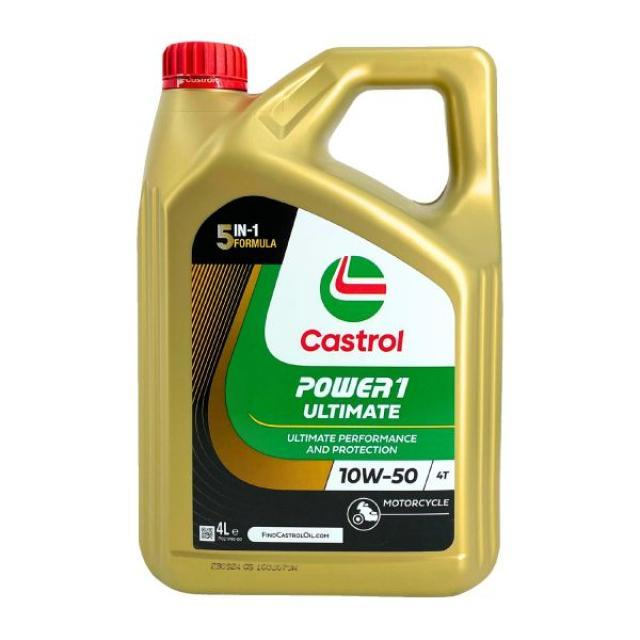motor_oil: (131, 38, 504, 602)
